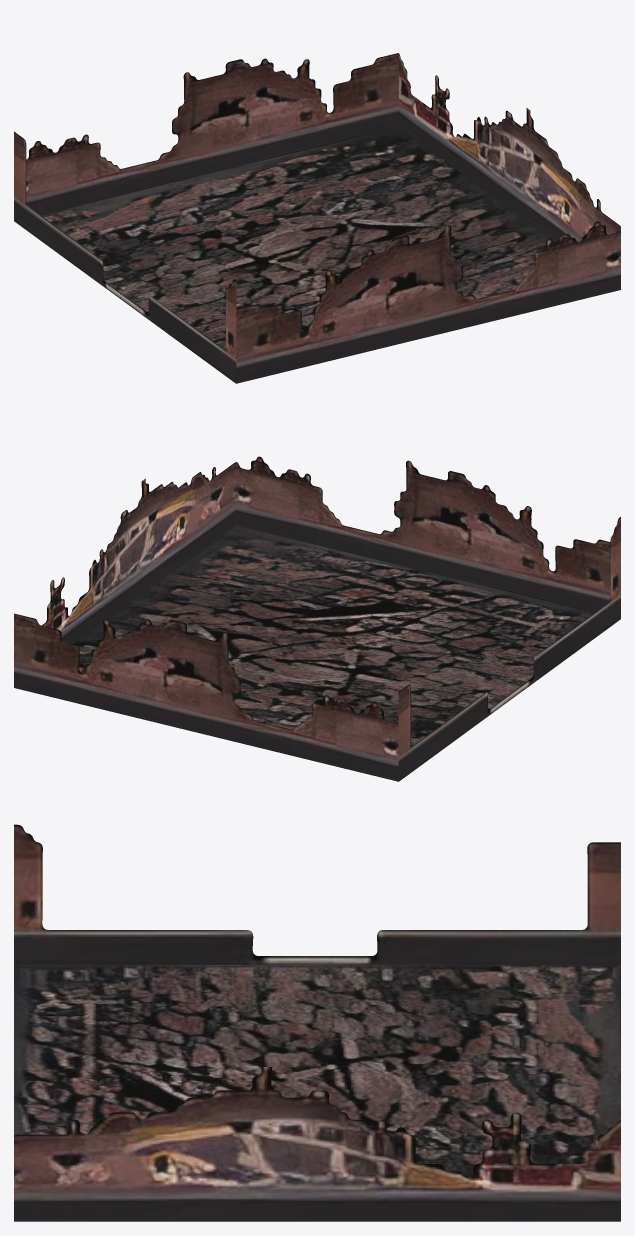
Rendered from city2storyc_dam_hdtex.glb.
The picture shows the model from 3 angles, top to bottom: view 1: azimuth 30°, elevation 25°; view 2: azimuth 150°, elevation 25°; view 3: azimuth 270°, elevation 25°; orthographic projection. The views are drawn at different scales.
Parts seen in each view (by area): view 1: City2StoryA; view 2: City2StoryA; view 3: City2StoryA.
Boxes of the visible parts, x1,y1,x2,y2 form: City2StoryA: [14, 53, 620, 383]; City2StoryA: [14, 456, 620, 781]; City2StoryA: [14, 824, 620, 1221].
Bounding box in the file's own units: 17.76 × 4.99 × 17.76.
1 material, 1 textured.
